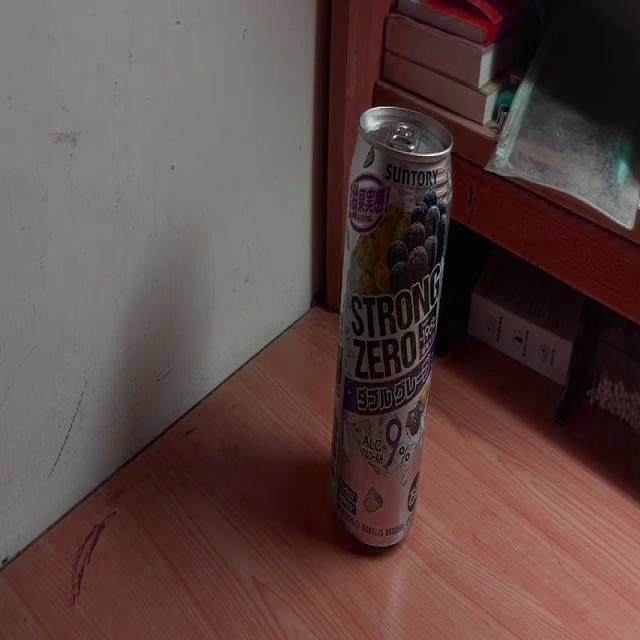Liquor: (329, 106, 452, 554)
